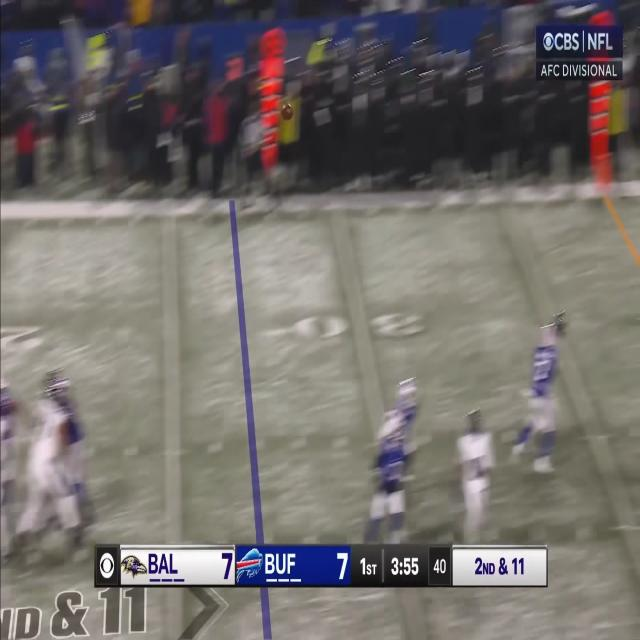Ball: (282, 103, 294, 119)
